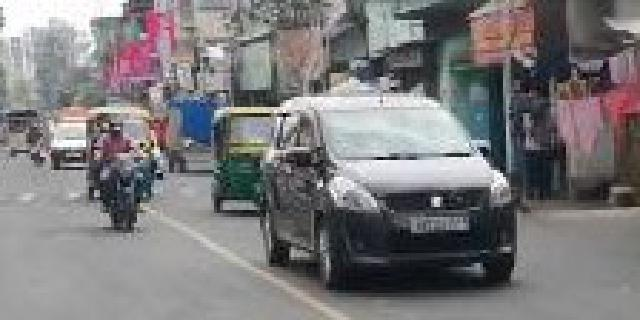Autorickshaw: (207, 103, 269, 210)
Car: (257, 93, 535, 288)
Motorbike: (97, 117, 158, 240)
